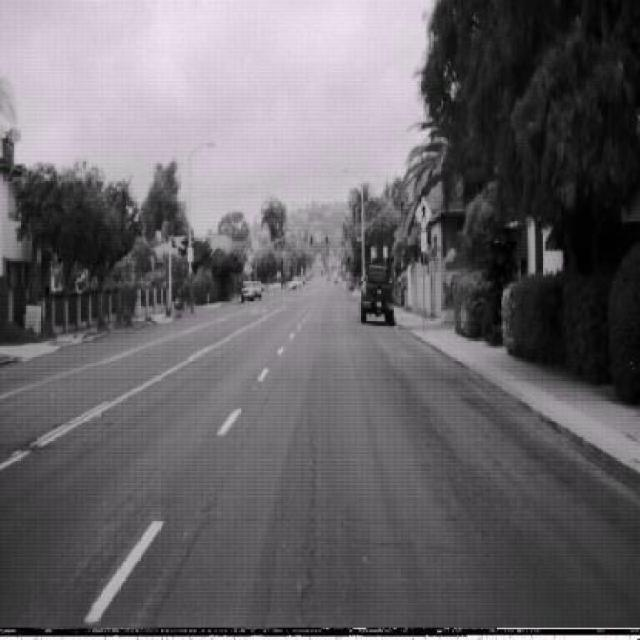pedestrianCrossing: (414, 197, 433, 234)
